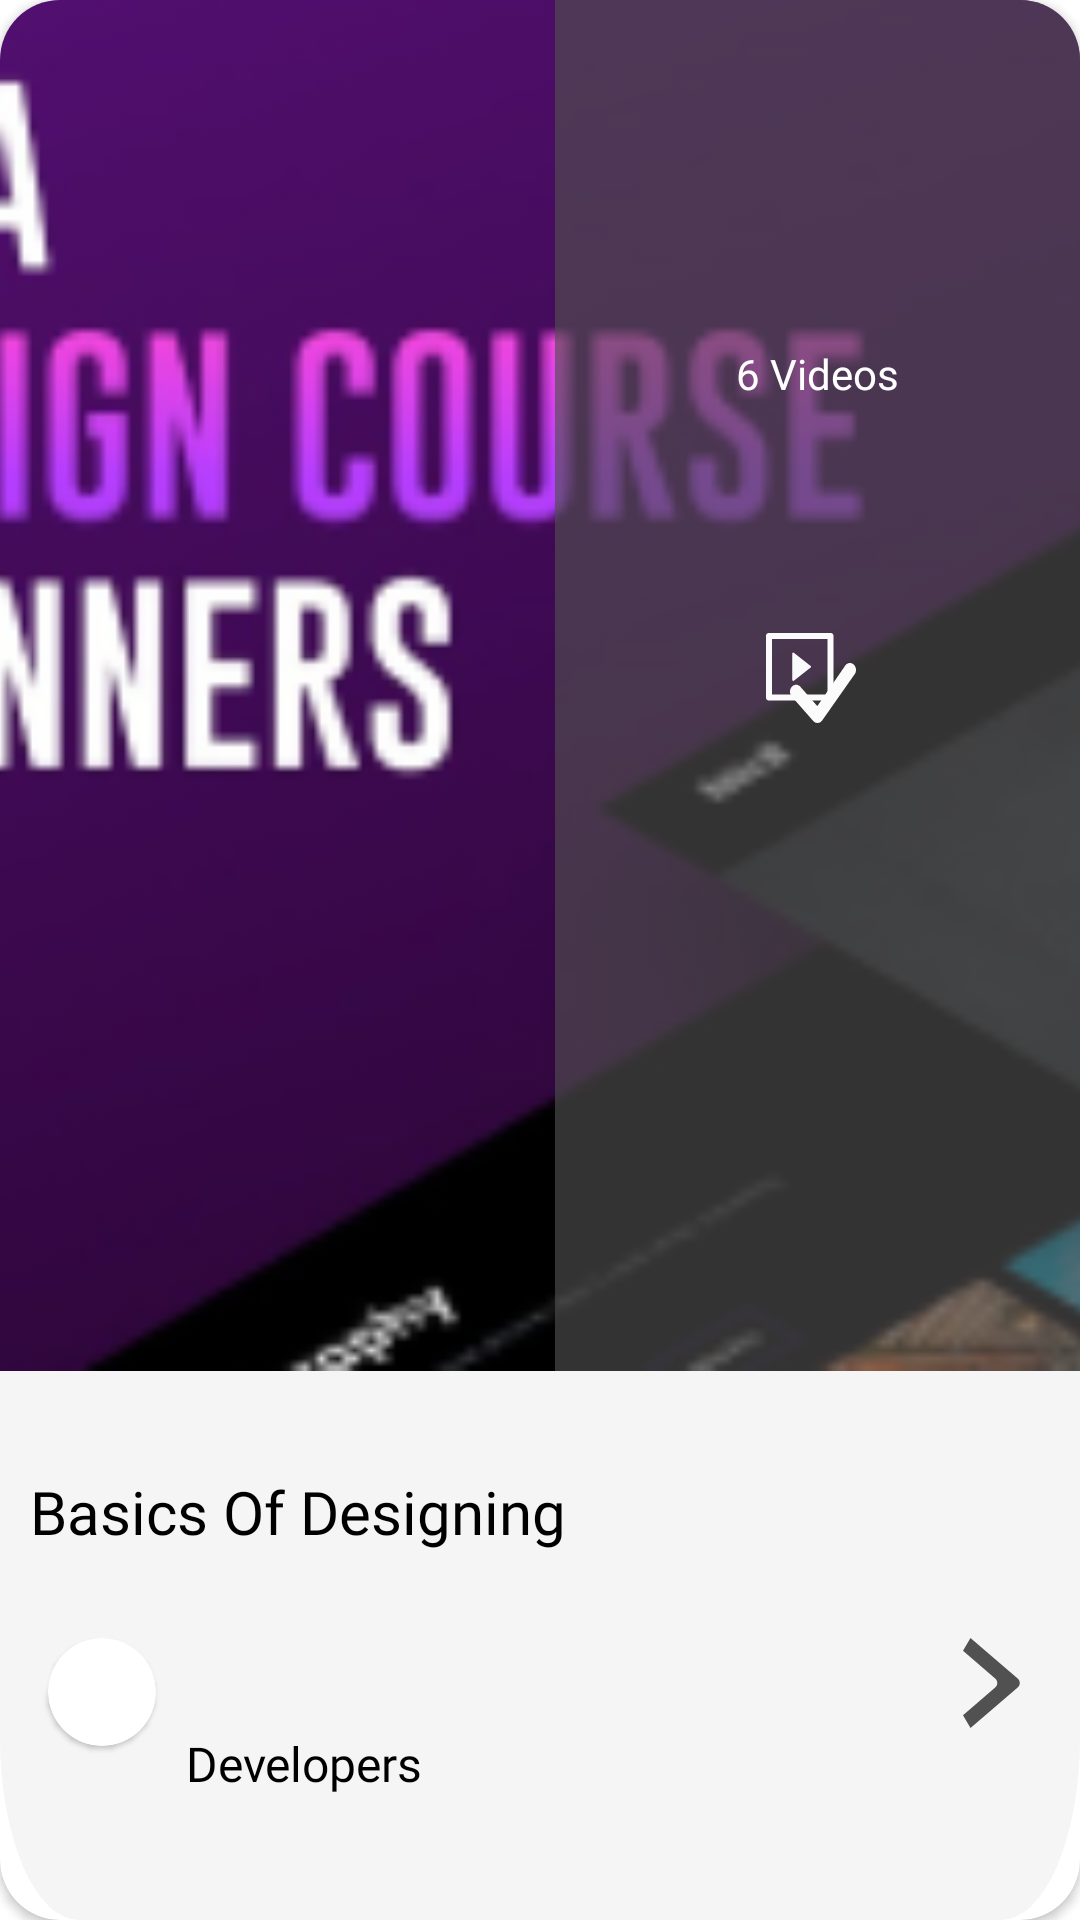

Icon click points for this 1080 x 1920 phone screenshot, format (x=x, y=y):
angular forward: (x=991, y=1683)
playlist: (x=817, y=685)
